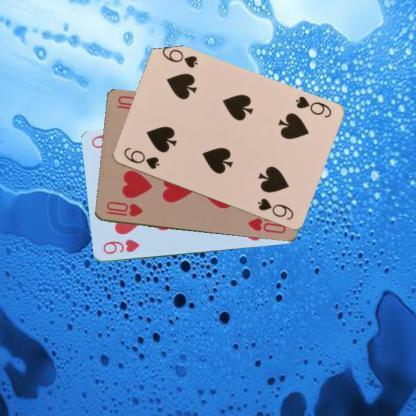10h: (103, 199, 144, 218)
6s: (292, 93, 333, 119), (121, 145, 160, 171)
9h: (100, 237, 140, 256)
